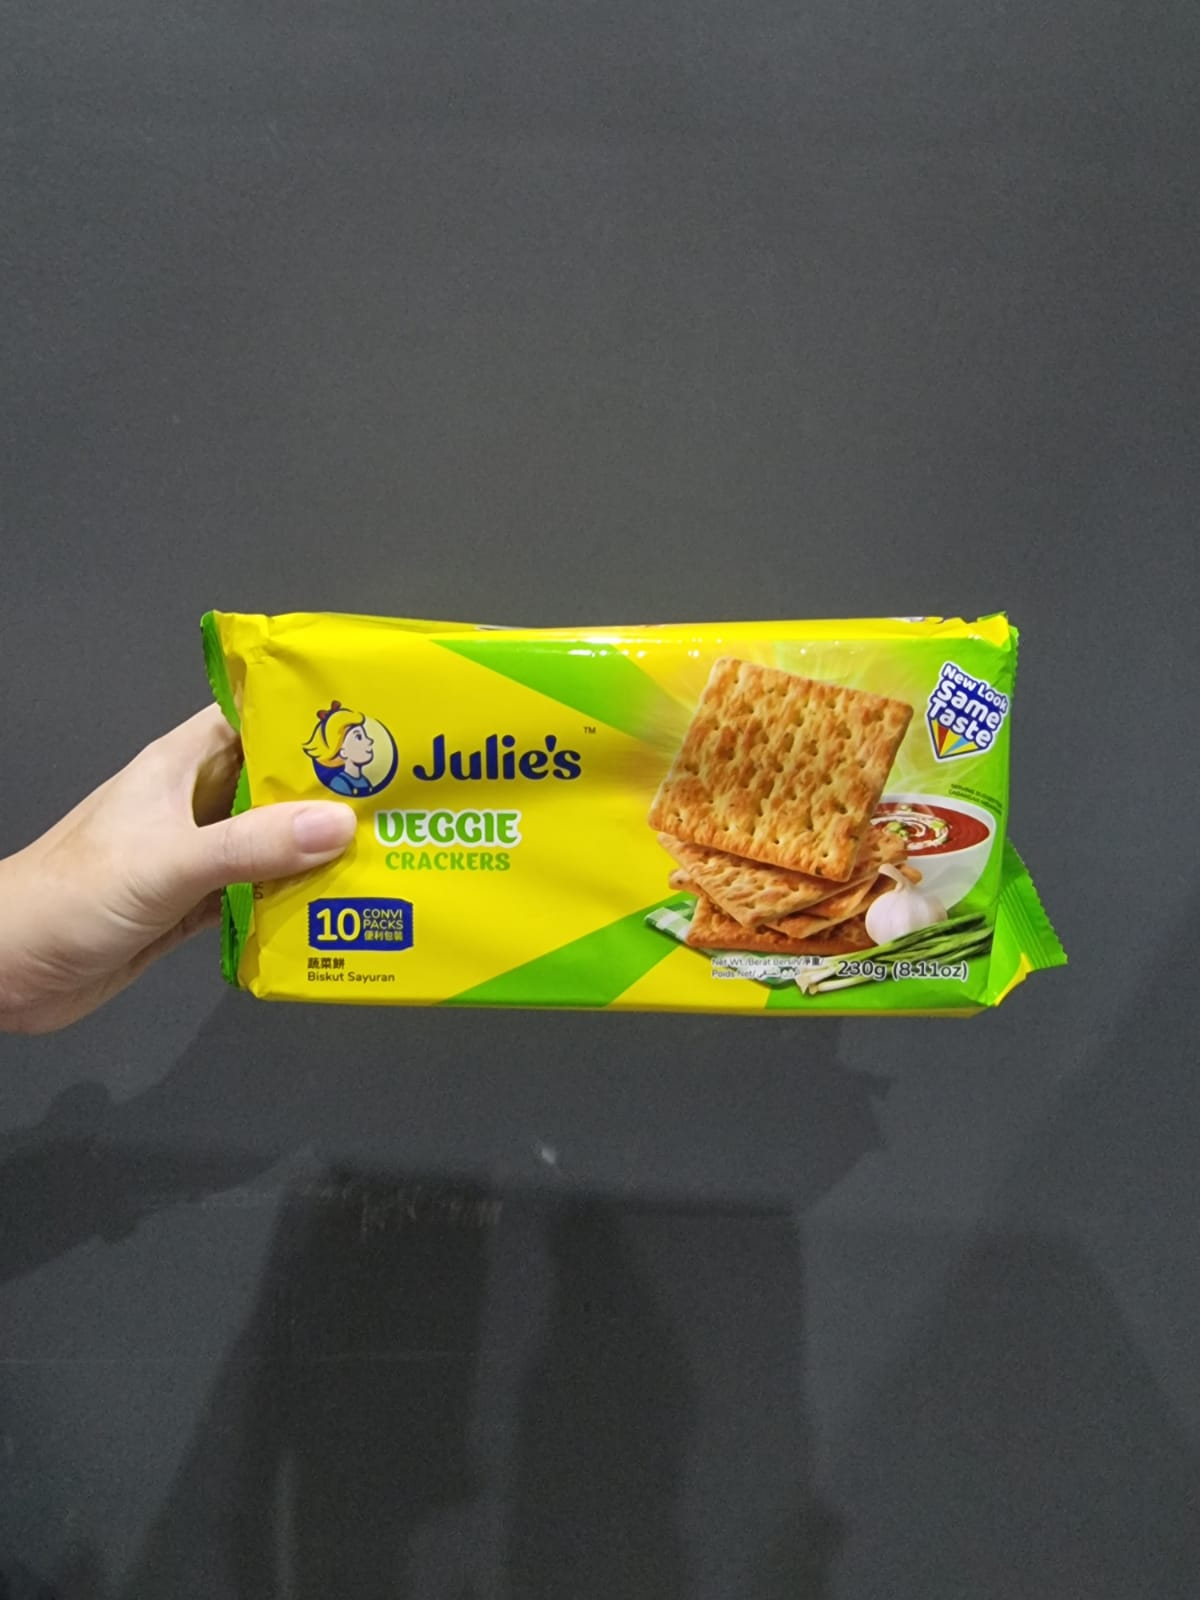Biscuits: (253, 634, 1006, 1002)
